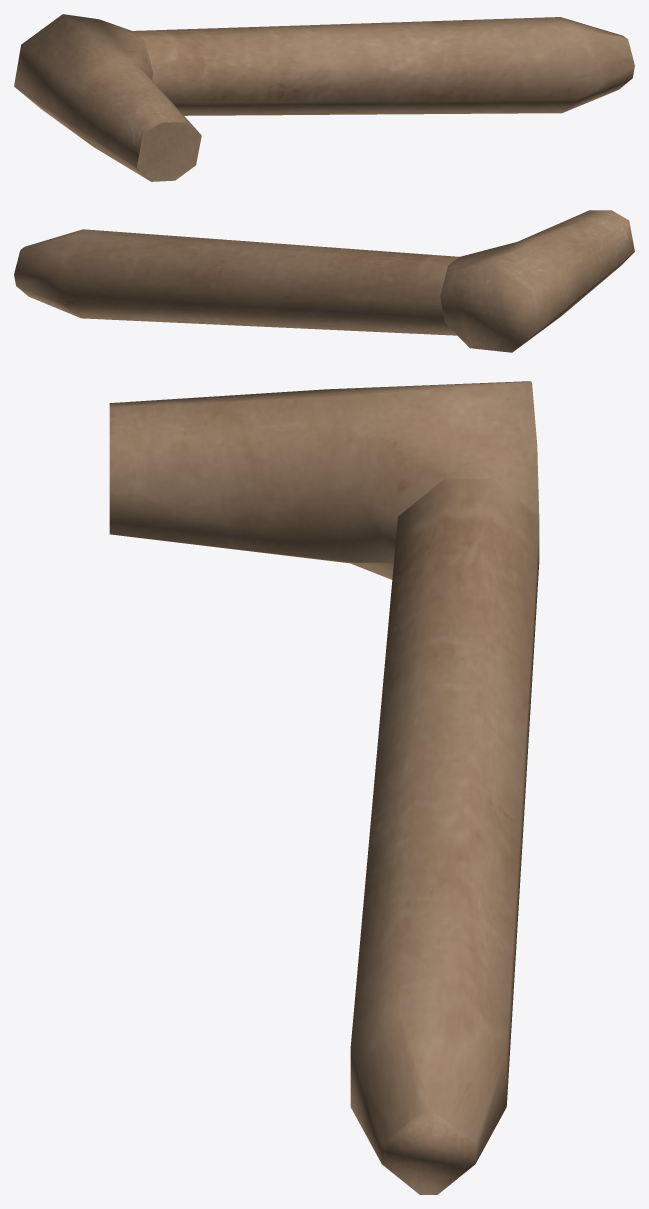
File: DoorHandle.fbx
The picture shows the model from 3 angles, top to bottom: view 1: azimuth 30°, elevation 25°; view 2: azimuth 150°, elevation 25°; view 3: azimuth 270°, elevation 25°; orthographic projection. The views are drawn at different scales.
Parts seen in each view (by area): view 1: DoorHandle; view 2: DoorHandle; view 3: DoorHandle.
Boxes of the visible parts, <box> form: DoorHandle: <box>14,14,634,181</box>; DoorHandle: <box>14,210,634,352</box>; DoorHandle: <box>109,381,539,1194</box>.
Bounding box in the file's own units: 14.02 × 4.26 × 4.82.
